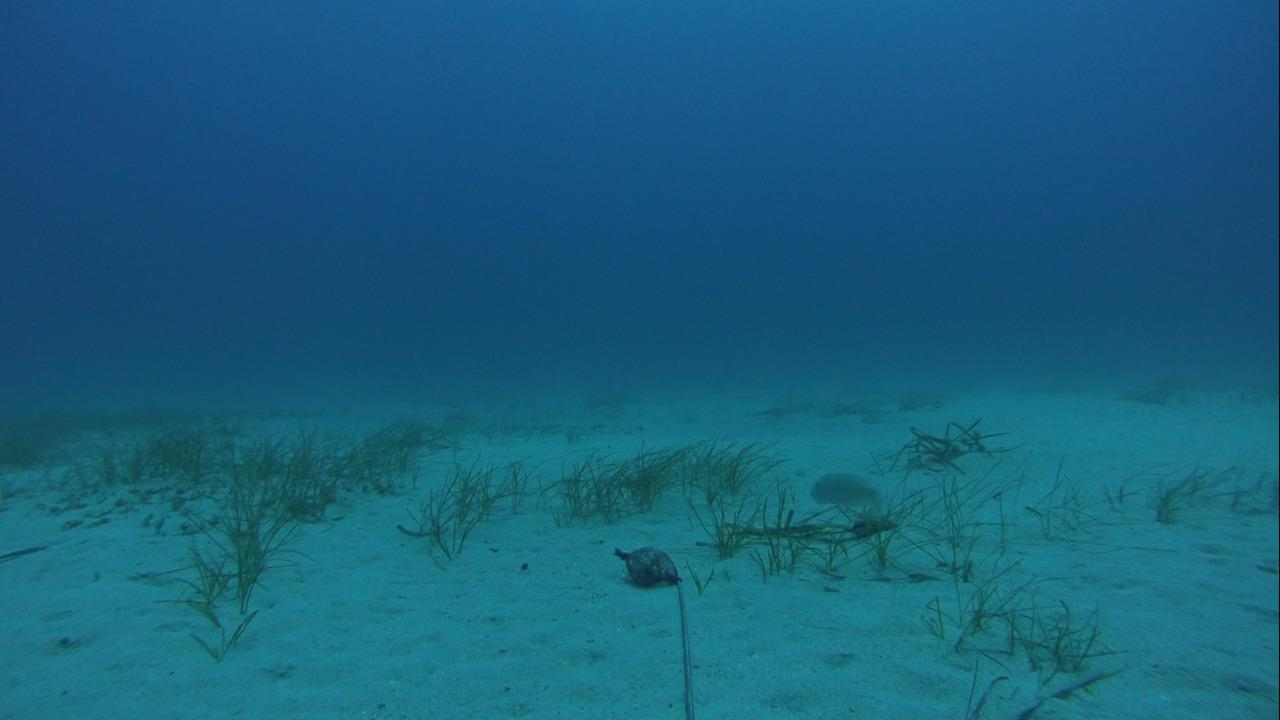raor: (806, 467, 889, 508)
